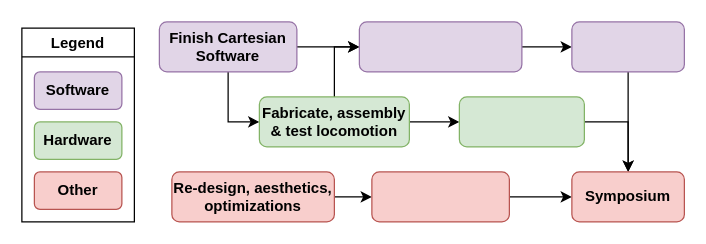
The diagram is 706 pixels wide and 244 high, and some of its shapes have lost their labels. The centre of each missing label's shape, as x and y in pixels:
"Collect media, develop demos" goes at [440,196].
"Develop basic autonomy" goes at [627,46].
"Develop Locomotion Software" goes at [440,46].
"Test efficacy of the system" goes at [521,121].
